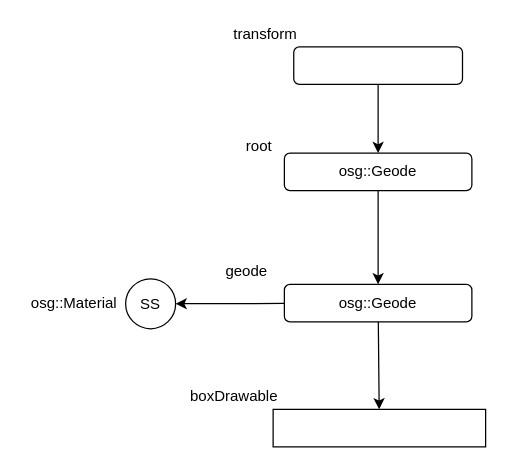
This 508x469 diagram has some shape labels left out. Each missing label, with the centre of its shape:
"osg::MatrixTransform" goes at [377,65].
"osg::ShapeDrawable (box)" goes at [379,427].
